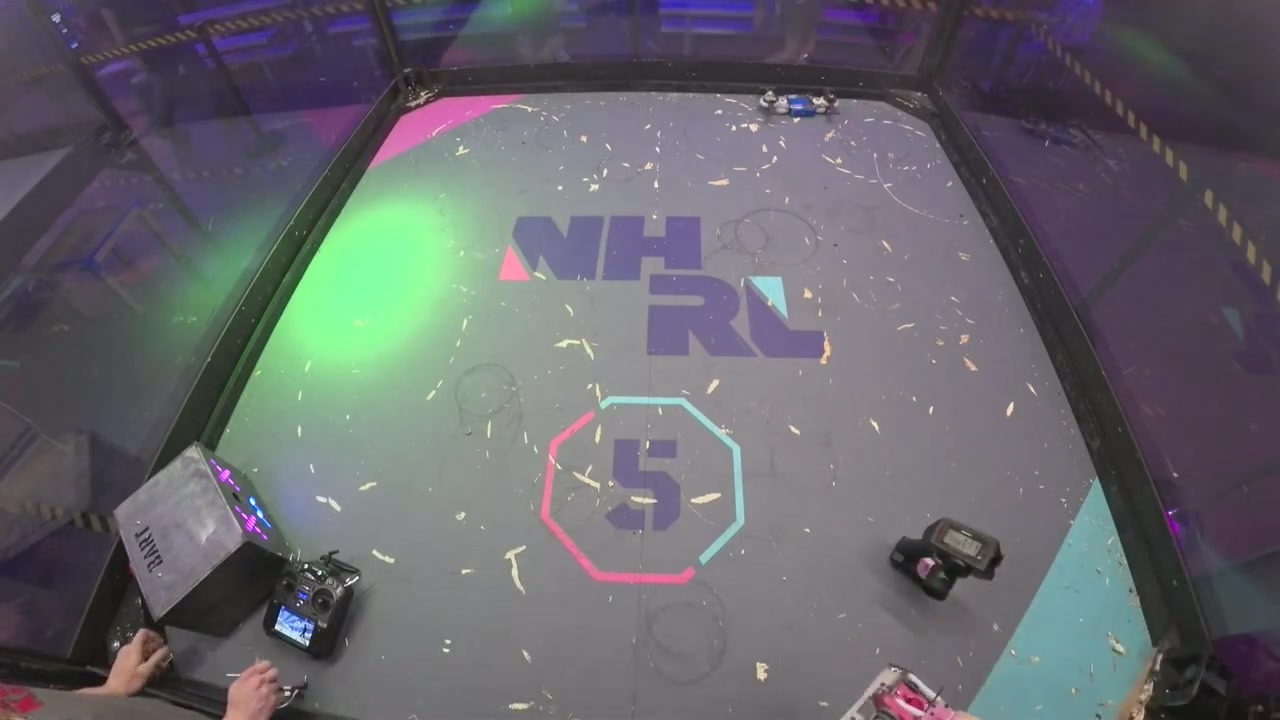combatbot: (841, 666, 960, 718), (758, 90, 840, 120)
housebot: (115, 442, 293, 639)
